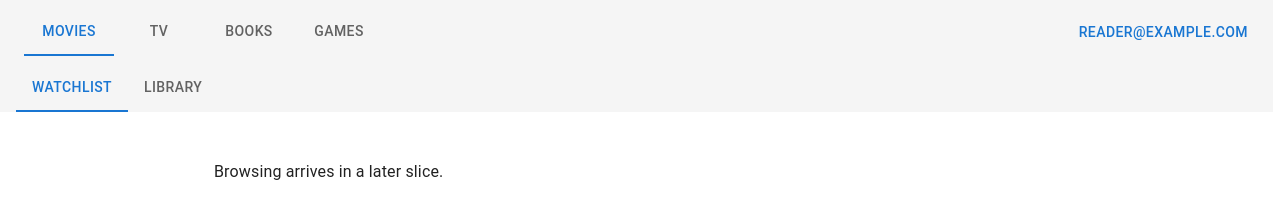
Test: AppShell › shows the account menu with settings and log out
Click the button "reader@example.com": (1163, 32) [1071,14,1256,50]
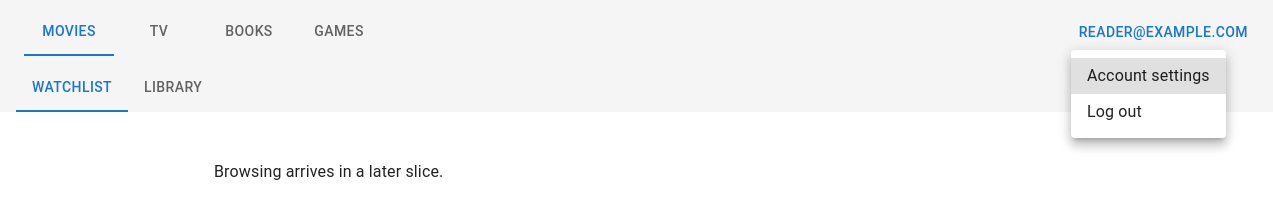
expect the menu item "Account settings" is shown: met, box [1071,58,1226,94]
expect the menu item "Log out" is shown: met, box [1087,102,1142,121]
